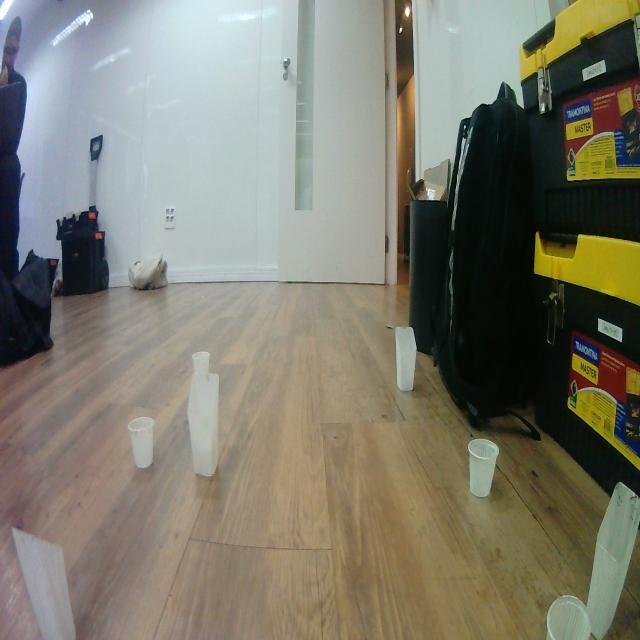erva_daninha: (585, 481, 640, 640), (10, 524, 76, 640), (187, 372, 220, 478), (394, 326, 416, 393)
planta: (546, 595, 591, 640), (468, 438, 500, 498), (128, 416, 155, 469), (192, 351, 210, 376)
